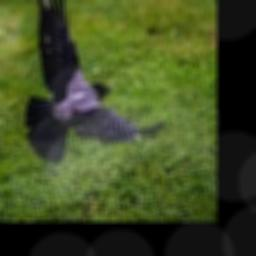Crow: (25, 0, 166, 164)
